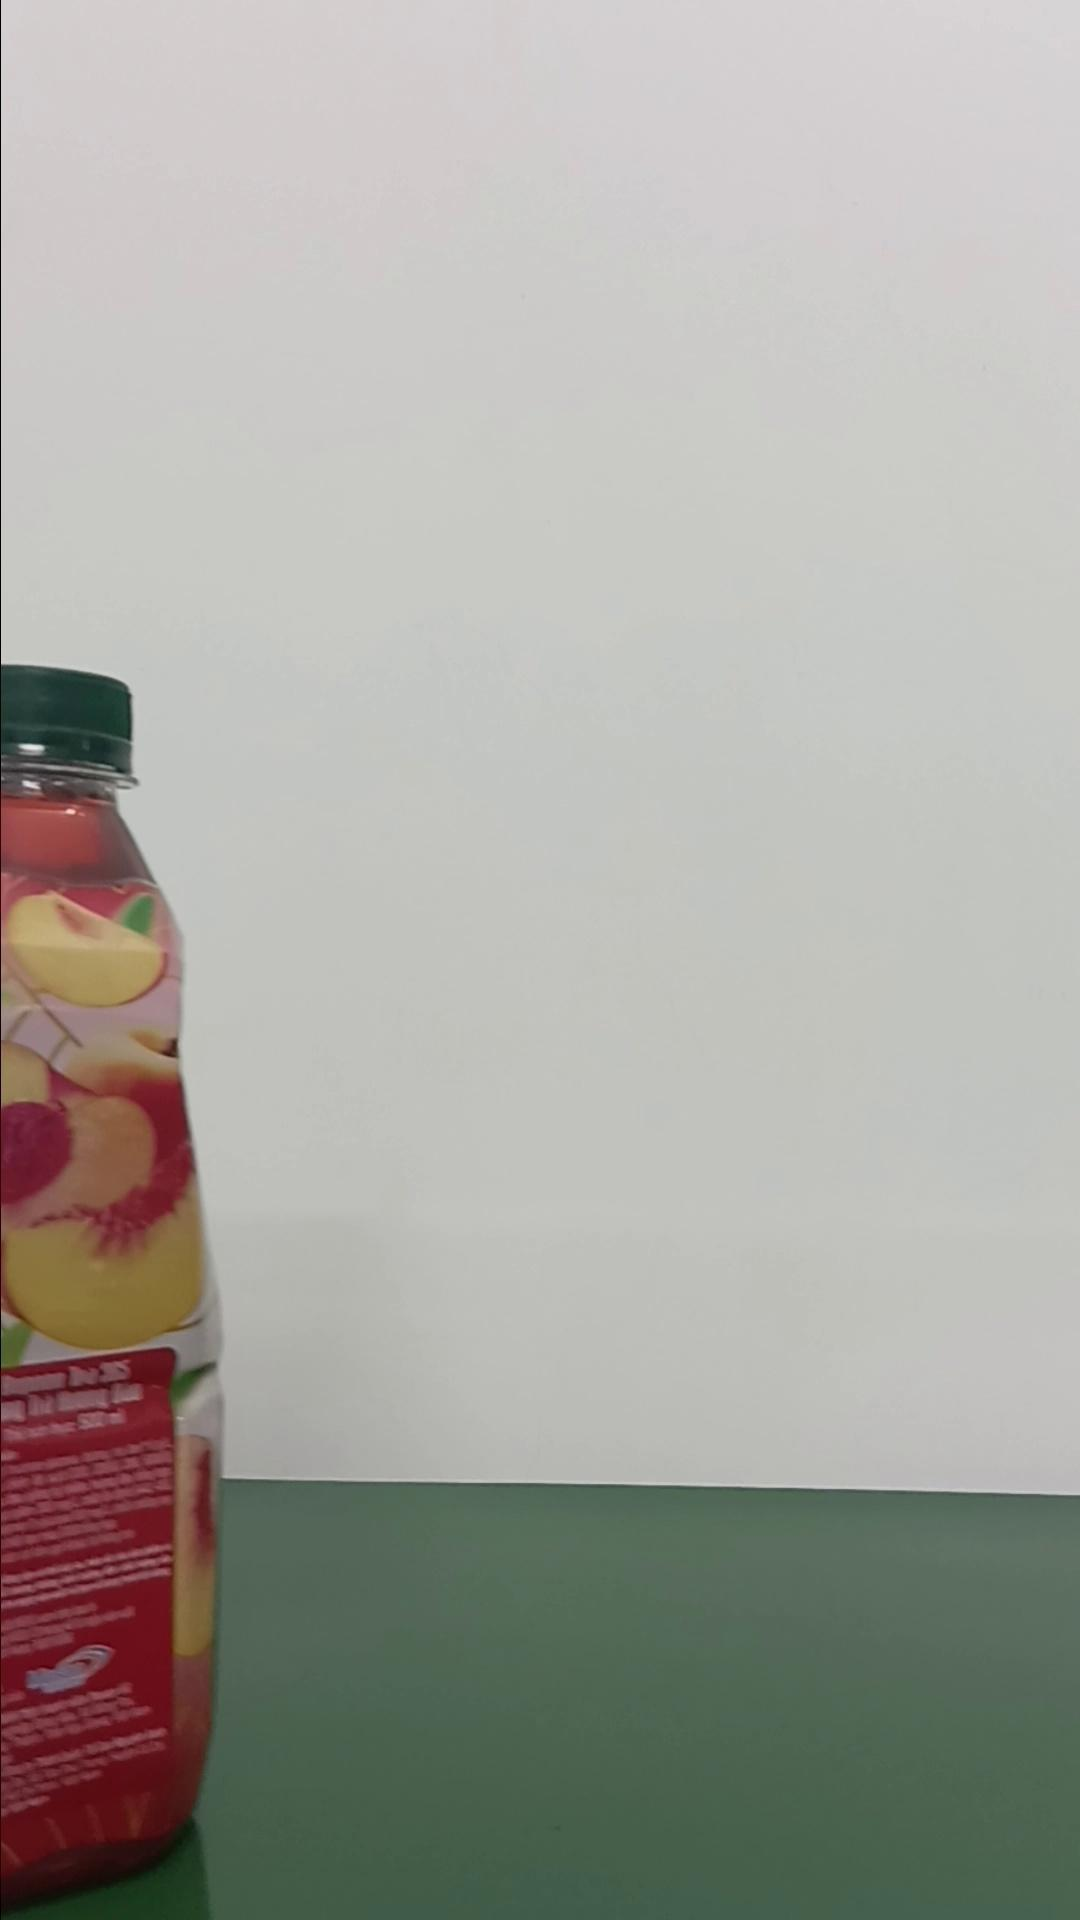loi meo sp: (1, 661, 227, 1902)
